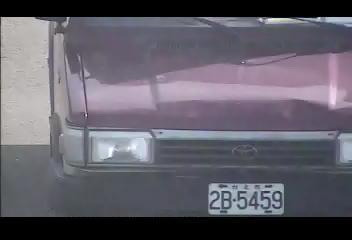plate: (206, 181, 286, 217)
